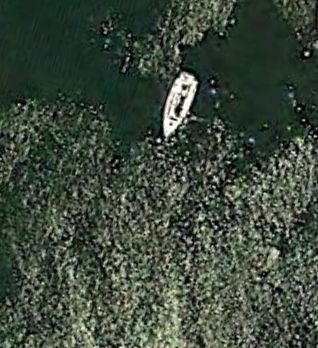boat: (160, 72, 198, 142)
